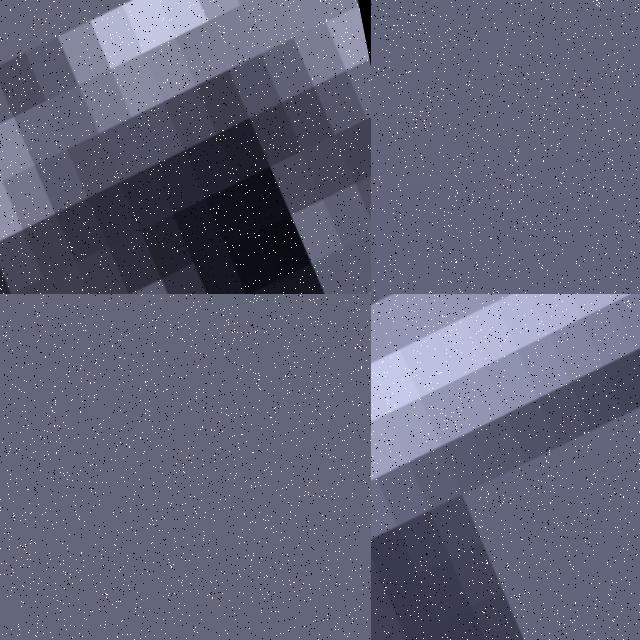drone: (0, 0, 371, 294), (371, 294, 640, 640)
